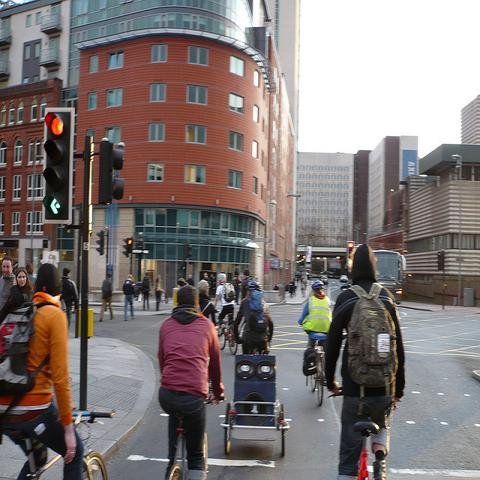car: (319, 276, 328, 284)
truck: (373, 249, 406, 304)
